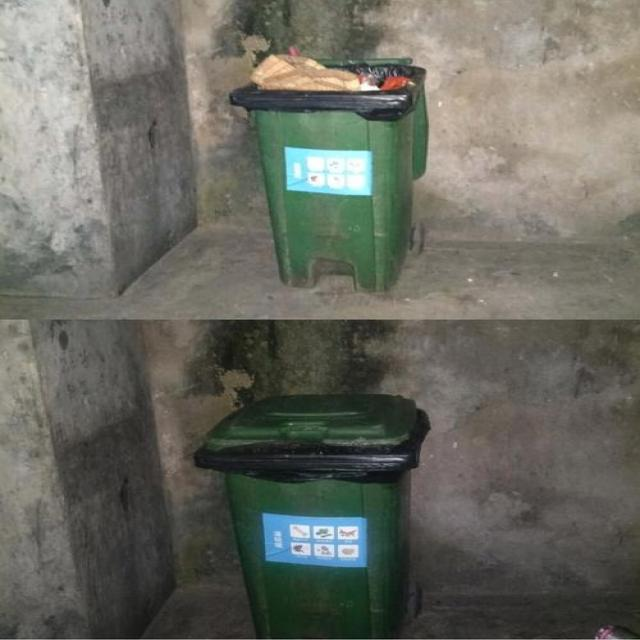garbage_bin: (194, 393, 428, 639)
overflow: (228, 44, 426, 291)
